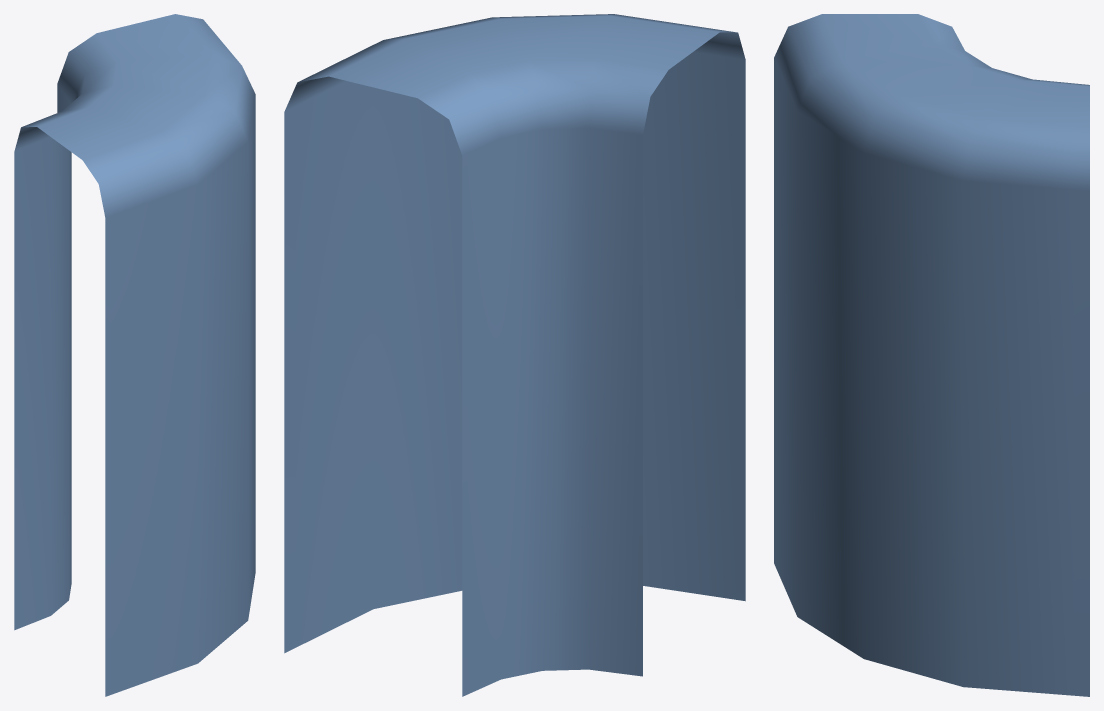
File: WallCornerwithBlendshape.fbx
3 views of the same model, side by side, from view 1: azimuth 30°, elevation 25°; view 2: azimuth 150°, elevation 25°; view 3: azimuth 270°, elevation 25° (orthographic). The views are drawn at different scales.
Visible parts, largest first — view 1: WallCornerwithBlendshape; view 2: WallCornerwithBlendshape; view 3: WallCornerwithBlendshape.
Part boxes in pixels (left/top/right/bottom): WallCornerwithBlendshape: left=14, top=14, right=255, bottom=696; WallCornerwithBlendshape: left=284, top=14, right=745, bottom=696; WallCornerwithBlendshape: left=774, top=14, right=1089, bottom=696.
Bounding box in the file's own units: 52.09 × 100 × 52.09.
